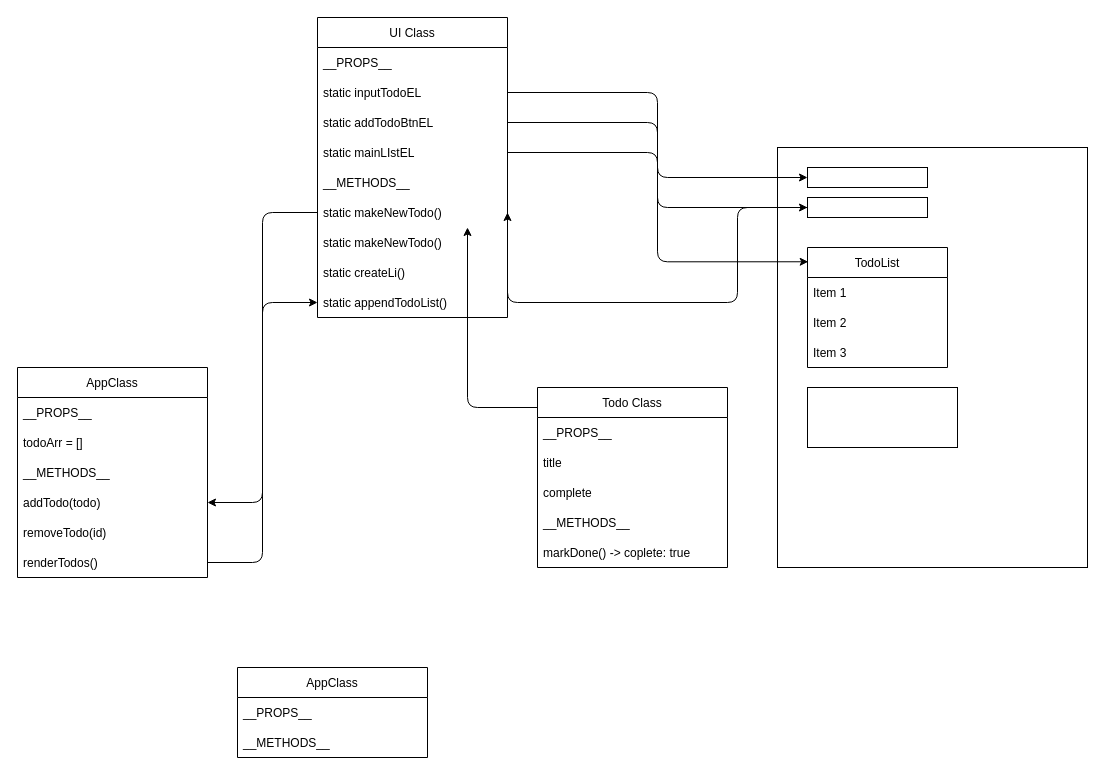
Some shapes in this 1105 by 775 pixel diagram are drawn without their labels. The shapes that lost their labels are listed below. From the top down, each one's centre as x and y in pixels, then its label:
point (867, 177): read a book
point (867, 207): Add
point (882, 417): const app = new App() UI.makeNewTodo()
